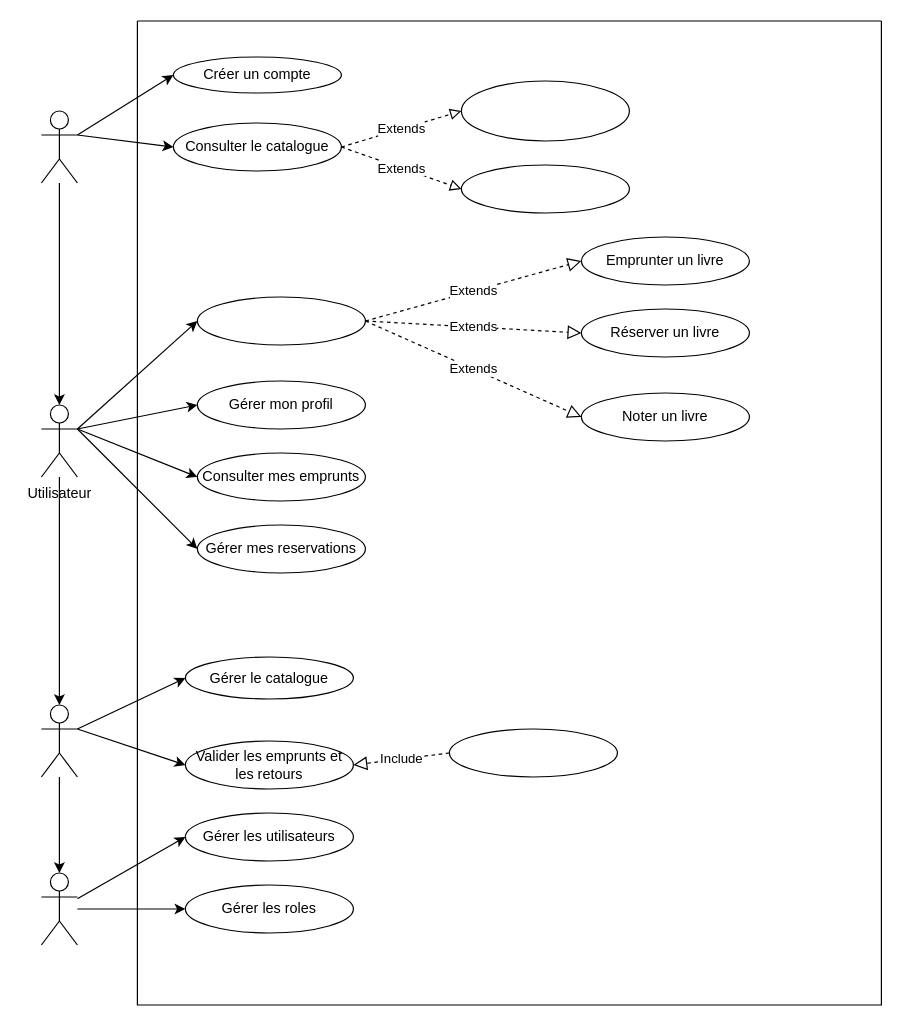
Some shapes in this 902 by 1026 pixel diagram are drawn without their labels. Here are the shapes that lost their labels. From the top down, the centre of each, then its label:
At point (544, 110): "Consulter la fiche d'un livre".
At point (58, 146): "Visiteur".
At point (544, 188): "Rechercher un livre".
At point (280, 320): "Se connecter".
At point (58, 740): "Bibliotecaire".
At point (532, 752): "Gérer les retards".
At point (58, 908): "Admin".
